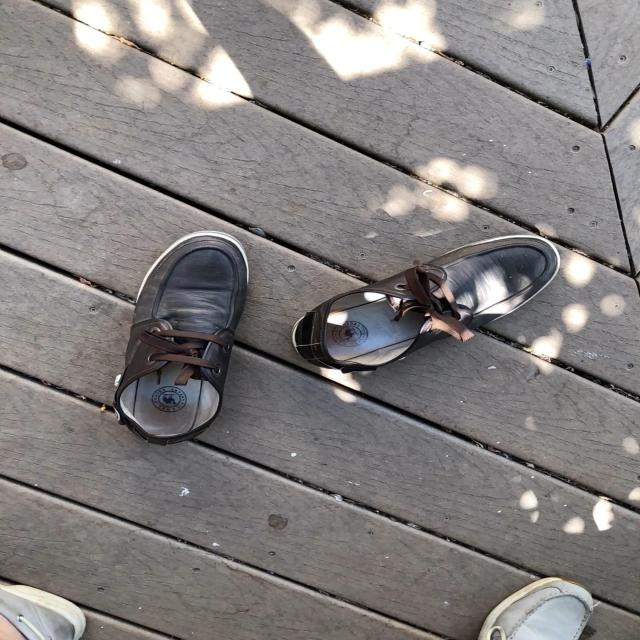shoe: (292, 235, 560, 367), (113, 230, 250, 444)
